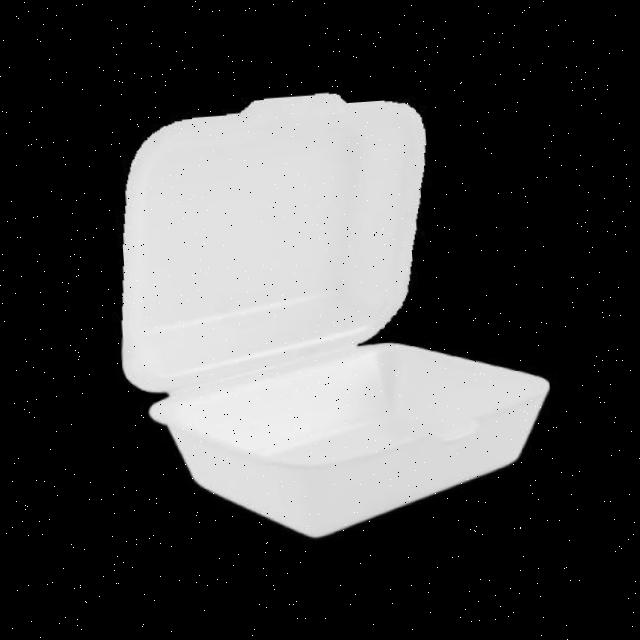styrofoam: (101, 76, 560, 550)
